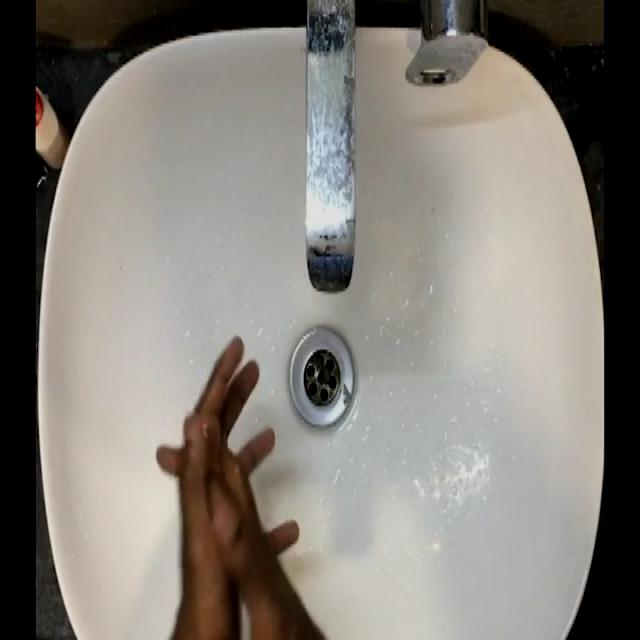step_3: (140, 328, 304, 630)
